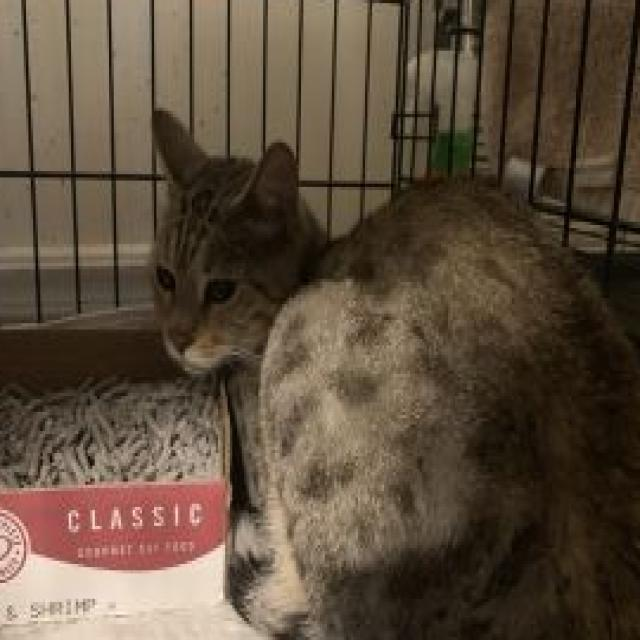Egyptian Mau: (142, 104, 640, 640)
